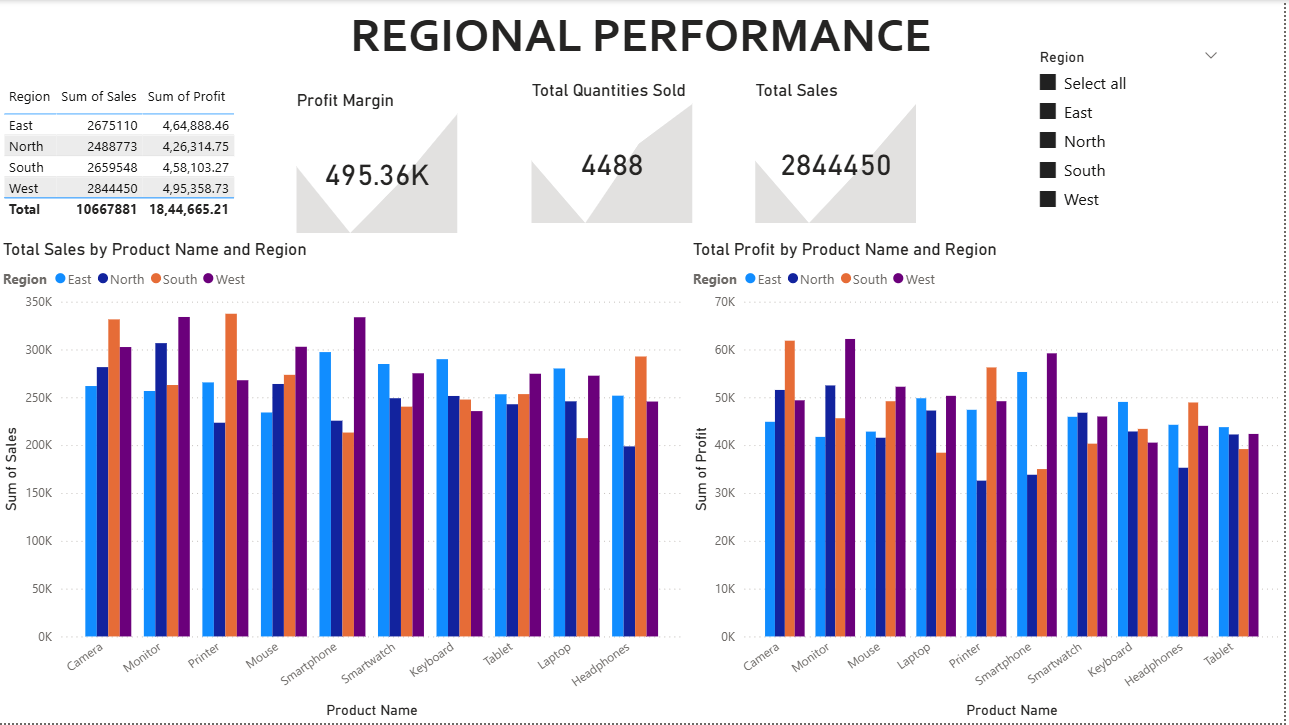

This screenshot's page, from the dashboard's own definition file:
{"tool":"powerbi","page":{"name":"Regional Performance","canvas":[1280,720],"ordinal":2},"visuals":[{"type":"textbox","box":[0,0,1280,79.8],"z":0},{"type":"tableEx","fields":{"Values":["raw_data.Region","Sum(raw_data.Sales)","Sum(raw_data.Profit)"]},"box":[0,80,355,181.2],"z":1000},{"type":"clusteredColumnChart","title":"Total Sales by Product Name and Region","fields":{"Category":["raw_data.Product Name"],"Series":["raw_data.Region"],"Y":["Sum(raw_data.Sales)"]},"box":[0,237.5,686.2,482.5],"z":2000},{"type":"clusteredColumnChart","title":"Total Profit by Product Name and Region","fields":{"Category":["raw_data.Product Name"],"Y":["Sum(raw_data.Profit)"],"Series":["raw_data.Region"]},"box":[686.2,237.5,593.8,482.5],"z":3000},{"type":"kpi","title":"Profit Margin","fields":{"TrendLine":["raw_data.Region"],"Indicator":["Sum(raw_data.Profit)"]},"box":[292.5,90,170,147.5],"z":4000},{"type":"kpi","title":"Total Sales","fields":{"TrendLine":["raw_data.Region"],"Indicator":["Sum(raw_data.Sales)"]},"box":[748.8,80,170,147.5],"z":5000},{"type":"kpi","title":"Total Quantities Sold","fields":{"TrendLine":["raw_data.Region"],"Indicator":["Sum(raw_data.Quantity)"]},"box":[526.2,80,170,147.5],"z":6000},{"type":"slicer","title":"Total Sales","fields":{"Values":["raw_data.Region"]},"box":[1023.8,43.8,202.5,193.8],"z":7000}]}

Visuals, with their boxes in screenshot pixels (x1, y1, x2, y2), scaled from the page's 1280x720 canvas onto the 1289x725 screenshot:
textbox: l=0, t=0, r=1288, b=80
tableEx - raw_data.Region x Sum(raw_data.Sales): l=0, t=81, r=357, b=263
"Total Sales by Product Name and Region" clusteredColumnChart: l=0, t=239, r=691, b=724
"Total Profit by Product Name and Region" clusteredColumnChart: l=691, t=239, r=1288, b=724
"Profit Margin" kpi: l=295, t=91, r=466, b=239
"Total Sales" kpi: l=754, t=81, r=925, b=229
"Total Quantities Sold" kpi: l=530, t=81, r=701, b=229
"Total Sales" slicer: l=1031, t=44, r=1235, b=239
